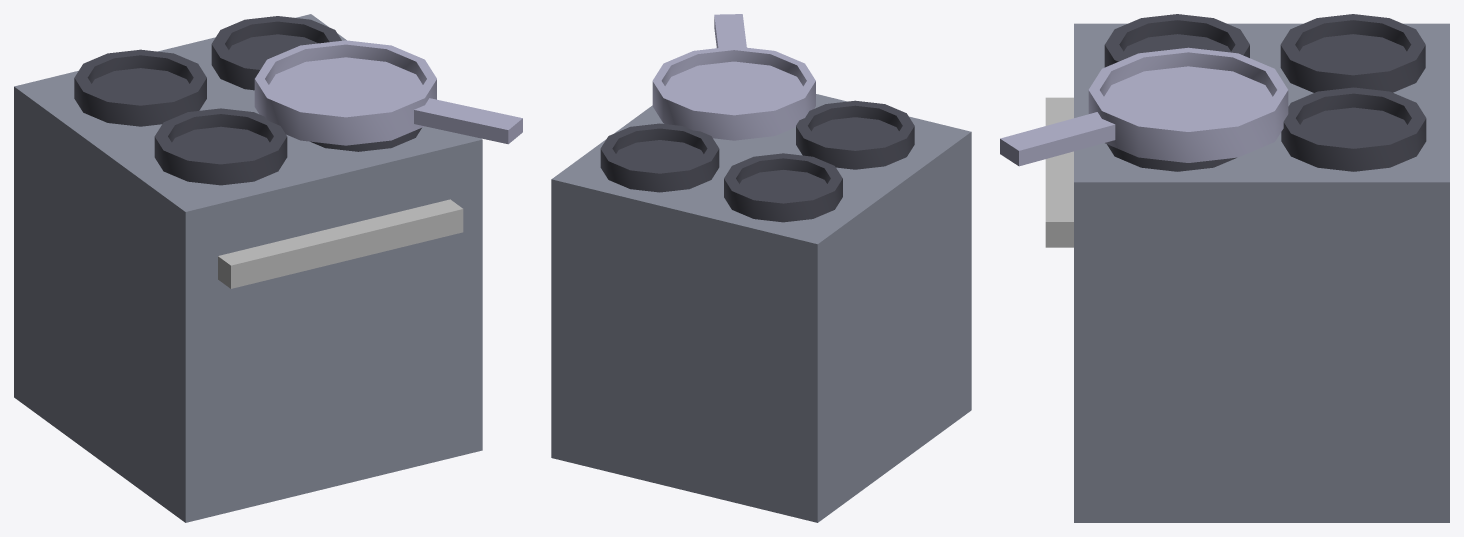
The model's file is stove.glb.
3 views of the same model, side by side, from view 1: azimuth 30°, elevation 25°; view 2: azimuth 150°, elevation 25°; view 3: azimuth 270°, elevation 25° (orthographic). The views are drawn at different scales.
Parts seen in each view (by area): view 1: Stove, Pan2, MeshInstance3D2, Plate23, Plate2.001, Plate42, MeshInstance3D, Plate32; view 2: Stove, Pan2, Plate2.001, Plate42, Plate23, MeshInstance3D; view 3: Stove, Pan2, Plate42, Plate2.001, Plate23, MeshInstance3D, MeshInstance3D2, Plate32.
Boxes of the visible parts, left/top/right/bottom form: Stove: left=14, top=14, right=482, bottom=522; Pan2: left=254, top=40, right=436, bottom=145; MeshInstance3D2: left=218, top=199, right=463, bottom=288; Plate23: left=154, top=108, right=287, bottom=185; Plate2.001: left=74, top=49, right=206, bottom=126; Plate42: left=211, top=16, right=341, bottom=90; MeshInstance3D: left=414, top=98, right=522, bottom=144; Plate32: left=310, top=128, right=421, bottom=151; Stove: left=551, top=94, right=971, bottom=522; Pan2: left=652, top=46, right=815, bottom=140; Plate2.001: left=724, top=153, right=842, bottom=222; Plate42: left=600, top=123, right=719, bottom=192; Plate23: left=796, top=100, right=914, bottom=169; MeshInstance3D: left=714, top=14, right=746, bottom=48; Stove: left=1074, top=23, right=1449, bottom=522; Pan2: left=1088, top=47, right=1288, bottom=162; Plate42: left=1281, top=87, right=1426, bottom=171; Plate2.001: left=1280, top=14, right=1425, bottom=92; Plate23: left=1104, top=14, right=1249, bottom=67; MeshInstance3D: left=1000, top=112, right=1115, bottom=166; MeshInstance3D2: left=1045, top=97, right=1073, bottom=247; Plate32: left=1107, top=144, right=1236, bottom=171.
Size of the model in its own units: 1.05 by 1.14 by 1.2.
